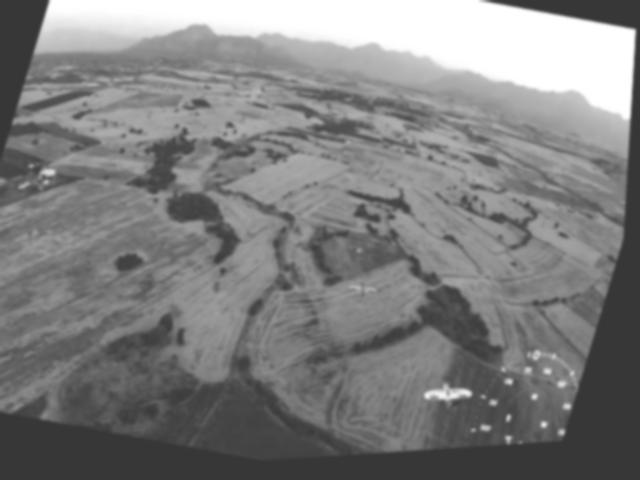hedef: (417, 378, 485, 433)
